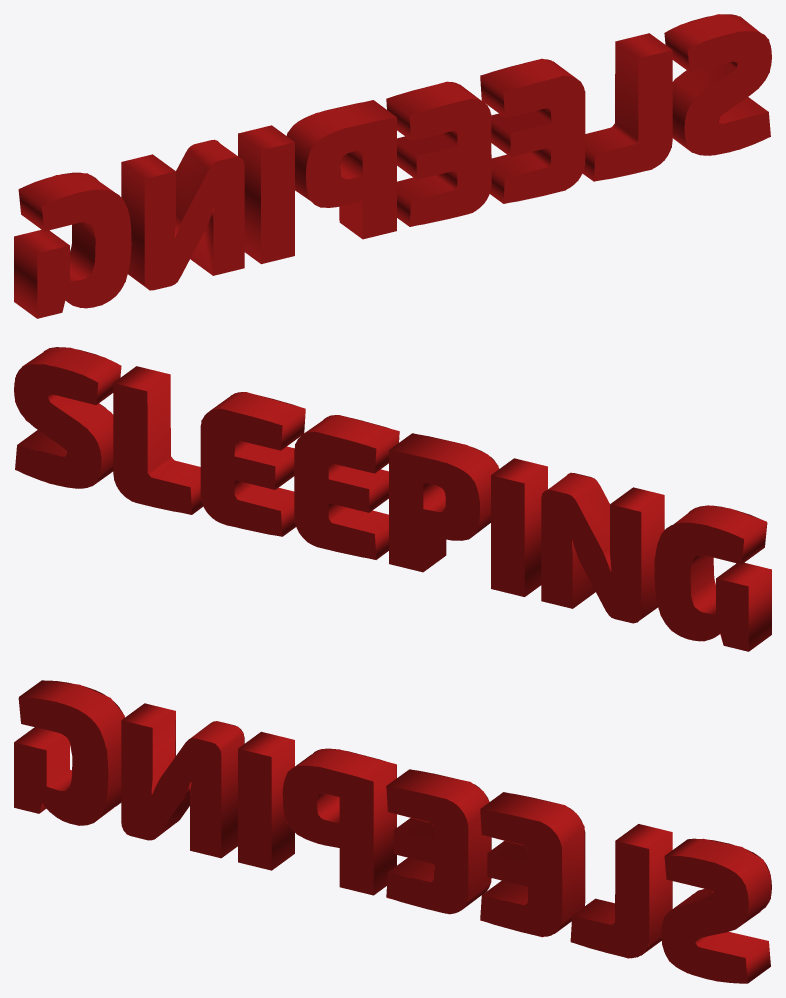
The model's file is sleeping.fbx.
3 views of the same model, one above another, from view 1: azimuth 30°, elevation 25°; view 2: azimuth 150°, elevation 25°; view 3: azimuth 330°, elevation 25° (orthographic).
Parts seen in each view (by area): view 1: Text; view 2: Text; view 3: Text.
Part boxes in pixels (box(x1,y1,x2,y2)): Text: box(14, 14, 771, 318); Text: box(14, 347, 771, 651); Text: box(14, 680, 771, 983).
Bounding box in the file's own units: 14.61 × 2.26 × 0.8.
